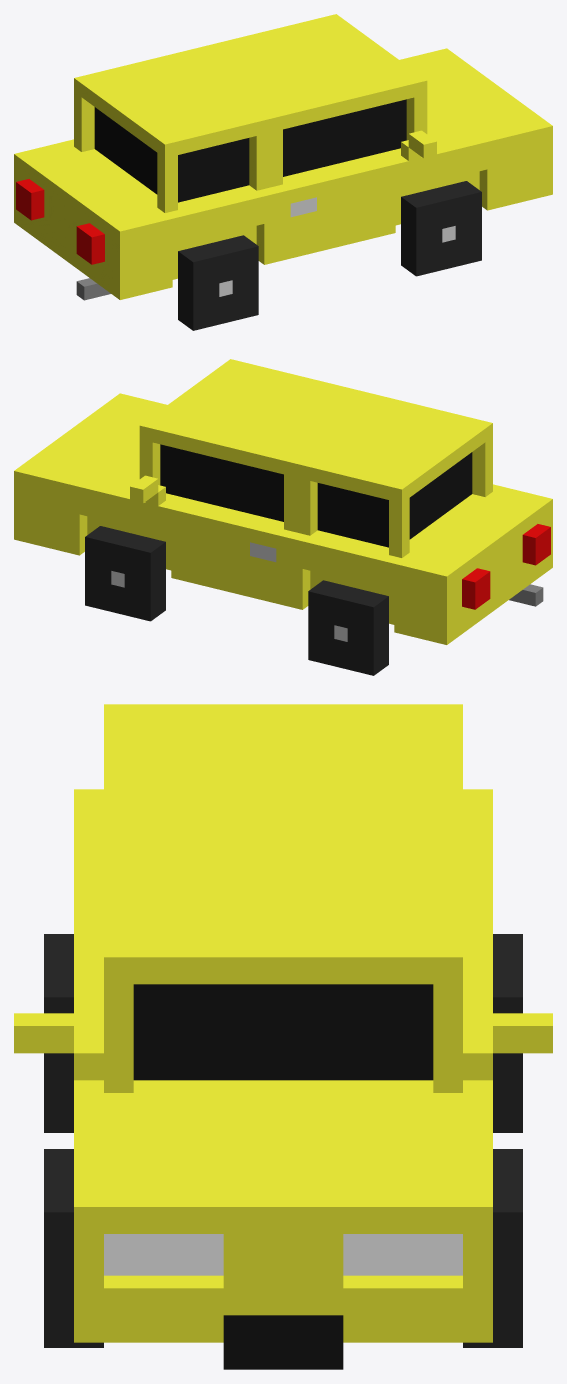
The model's file is carroAmarelo.obj.
The picture shows the model from 3 angles, top to bottom: view 1: azimuth 30°, elevation 25°; view 2: azimuth 150°, elevation 25°; view 3: azimuth 270°, elevation 25°; orthographic projection. The views are drawn at different scales.
Bounding box in the file's own units: 34 × 13 × 18.
1 material, 1 textured.
